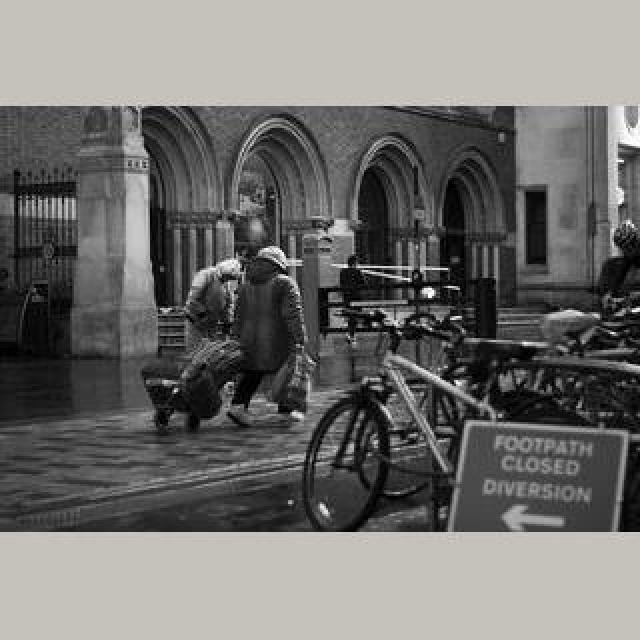MC-Bike: (226, 246, 304, 420), (176, 254, 248, 424), (580, 222, 640, 332), (338, 254, 374, 342)
Person: (304, 314, 636, 526)
